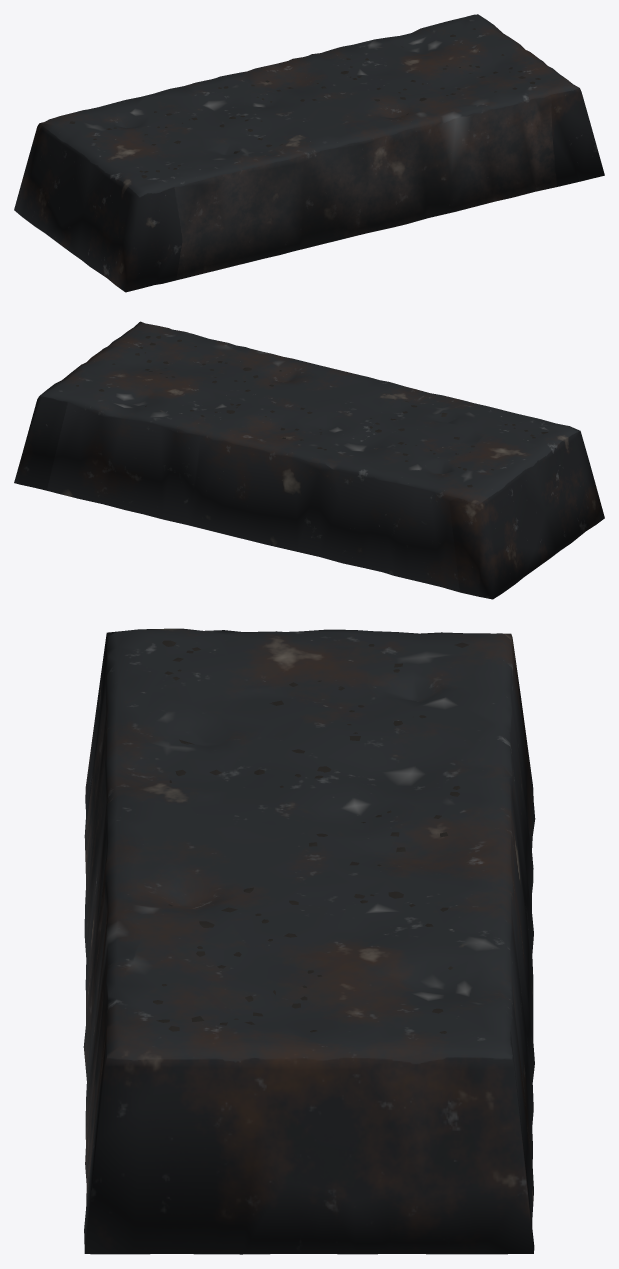
File: iron_v175_web_candidate.glb
3 renders of one model, top to bottom at view 1: azimuth 30°, elevation 25°; view 2: azimuth 150°, elevation 25°; view 3: azimuth 270°, elevation 25°, orthographic. The views are drawn at different scales.
Parts seen in each view (by area): view 1: WEB_SM_Genesis_IronIngot_V078; view 2: WEB_SM_Genesis_IronIngot_V078; view 3: WEB_SM_Genesis_IronIngot_V078.
Boxes of the visible parts, x1=… form: WEB_SM_Genesis_IronIngot_V078: x1=14, y1=14, x2=604, y2=292; WEB_SM_Genesis_IronIngot_V078: x1=14, y1=321, x2=604, y2=599; WEB_SM_Genesis_IronIngot_V078: x1=83, y1=628, x2=535, y2=1254.
Bounding box in the file's own units: 0.3709 × 0.0681 × 0.151.
Materials: 1 (1 with a texture image).
